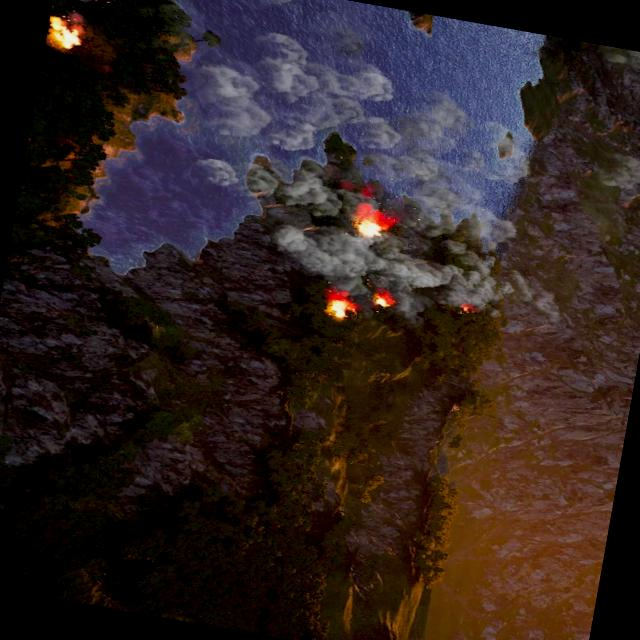fire: (348, 201, 396, 244), (44, 14, 82, 51), (322, 292, 358, 322), (372, 290, 394, 307), (458, 303, 473, 313)
smoke: (168, 0, 559, 265), (260, 224, 506, 340), (47, 0, 129, 37), (597, 151, 640, 195)
